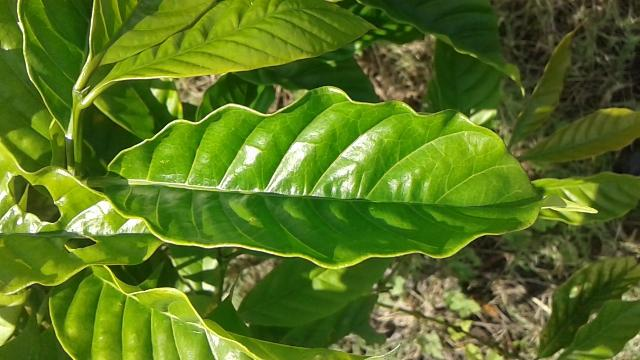healthy: (98, 82, 606, 271)
